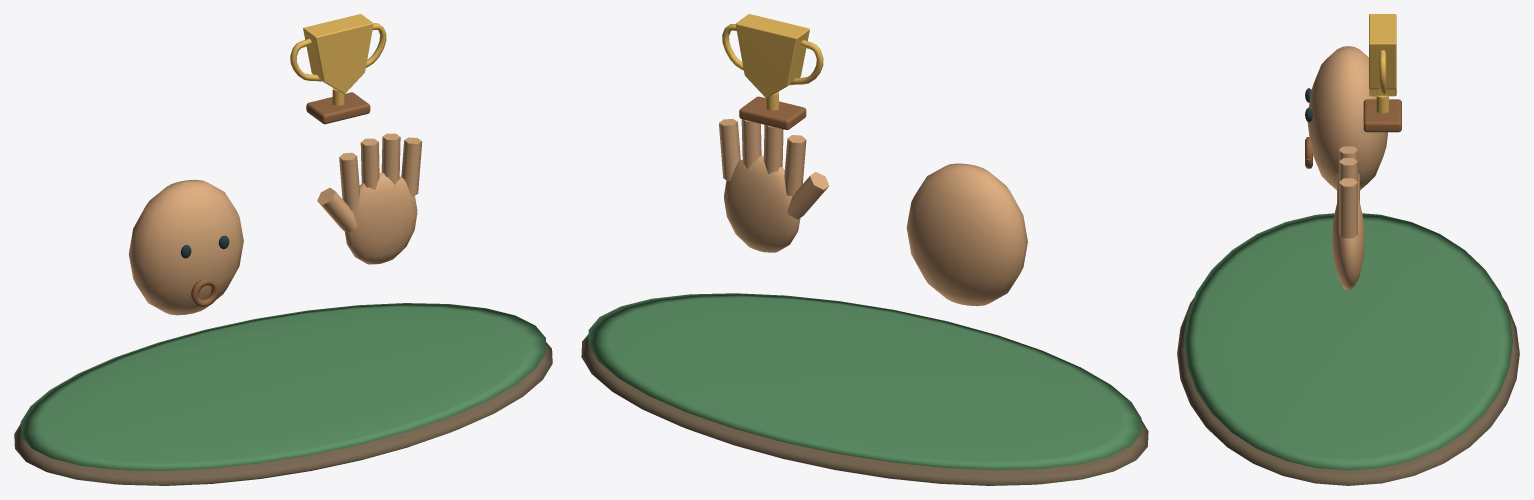
File: complete-third-excited-lifting-hand.glb
3 views of the same model, side by side, from view 1: azimuth 30°, elevation 25°; view 2: azimuth 150°, elevation 25°; view 3: azimuth 270°, elevation 25° (orthographic). The views are drawn at different scales.
Parts seen in each view (by area): view 1: complete-third-excited-lifting-hand_surface_01, complete-third-excited-lifting-hand_surface_02, complete-third-excited-lifting-hand_surface_00, complete-third-excited-lifting-hand_surface_05, complete-third-excited-lifting-hand_surface_04; view 2: complete-third-excited-lifting-hand_surface_01, complete-third-excited-lifting-hand_surface_02, complete-third-excited-lifting-hand_surface_00, complete-third-excited-lifting-hand_surface_05, complete-third-excited-lifting-hand_surface_04; view 3: complete-third-excited-lifting-hand_surface_01, complete-third-excited-lifting-hand_surface_02, complete-third-excited-lifting-hand_surface_00, complete-third-excited-lifting-hand_surface_05, complete-third-excited-lifting-hand_surface_04.
Boxes of the visible parts, x1,y1,x2,y2 form: complete-third-excited-lifting-hand_surface_01: (20, 303, 546, 470); complete-third-excited-lifting-hand_surface_02: (128, 133, 422, 315); complete-third-excited-lifting-hand_surface_00: (14, 342, 552, 485); complete-third-excited-lifting-hand_surface_05: (290, 14, 386, 105); complete-third-excited-lifting-hand_surface_04: (191, 92, 370, 307); complete-third-excited-lifting-hand_surface_01: (588, 293, 1141, 470); complete-third-excited-lifting-hand_surface_02: (719, 119, 1027, 306); complete-third-excited-lifting-hand_surface_00: (581, 334, 1148, 485); complete-third-excited-lifting-hand_surface_05: (722, 14, 823, 110); complete-third-excited-lifting-hand_surface_04: (739, 96, 806, 129); complete-third-excited-lifting-hand_surface_01: (1184, 213, 1512, 470); complete-third-excited-lifting-hand_surface_02: (1307, 46, 1387, 290); complete-third-excited-lifting-hand_surface_00: (1177, 298, 1519, 485); complete-third-excited-lifting-hand_surface_05: (1369, 14, 1396, 113); complete-third-excited-lifting-hand_surface_04: (1305, 99, 1401, 168).
Bounding box in the file's own units: 4.56 × 3.04 × 2.5.
